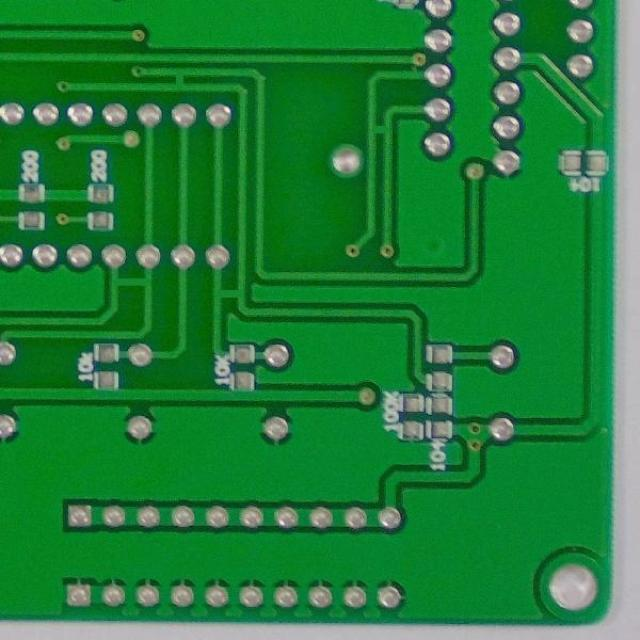Short_Circuit: (104, 269, 162, 300), (206, 280, 253, 308), (164, 62, 197, 96), (365, 118, 397, 144)
